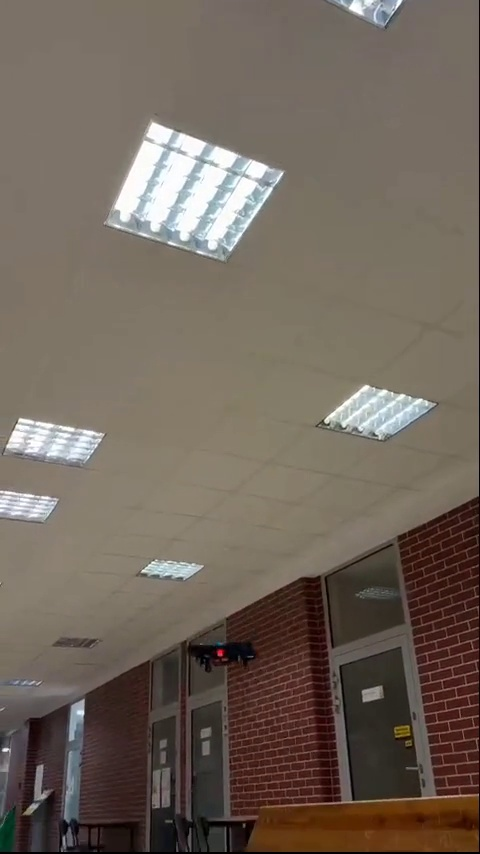drone: (186, 637, 260, 679)
